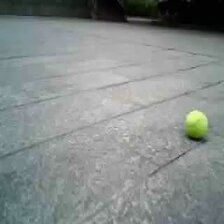tennis: (184, 110, 208, 138)
